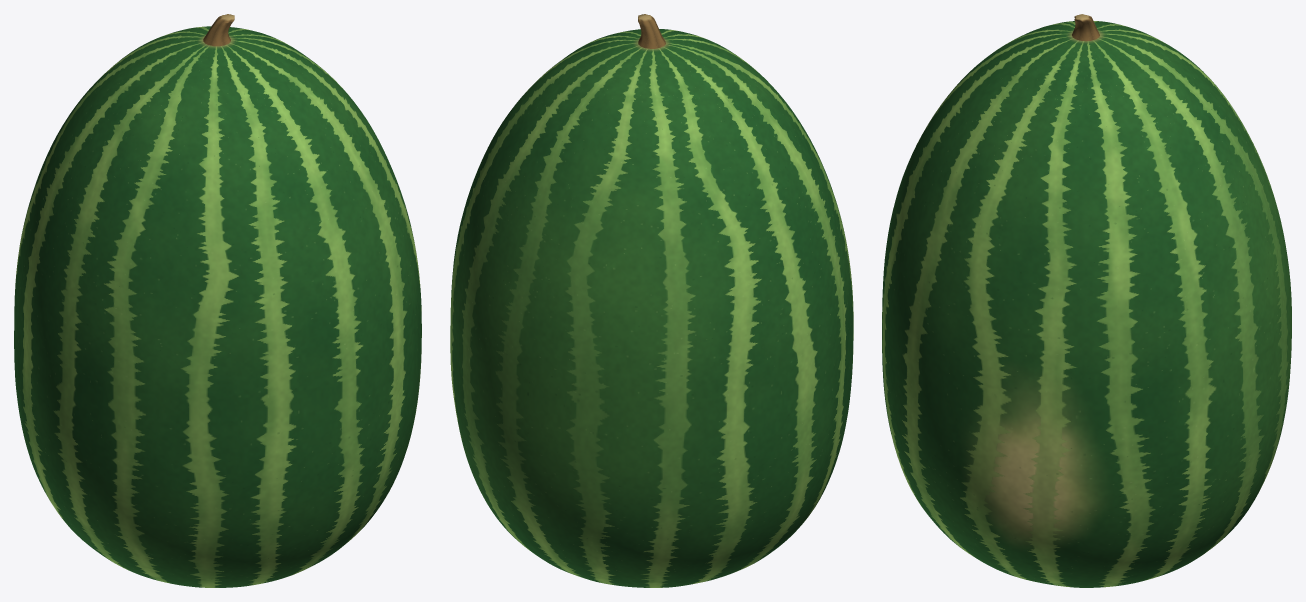
Rendered from watermelon.glb.
3 views of the same model, side by side, from view 1: azimuth 30°, elevation 25°; view 2: azimuth 150°, elevation 25°; view 3: azimuth 270°, elevation 25° (orthographic).
Visible parts, largest first — view 1: watermelon; view 2: watermelon; view 3: watermelon.
Part boxes in pixels (x1,y1,x2,y2): watermelon: (14, 14, 421, 587); watermelon: (450, 14, 853, 587); watermelon: (882, 14, 1291, 587).
Bounding box in the file's own units: 0.6817 × 1 × 0.6786.
2 materials, 2 textured.
